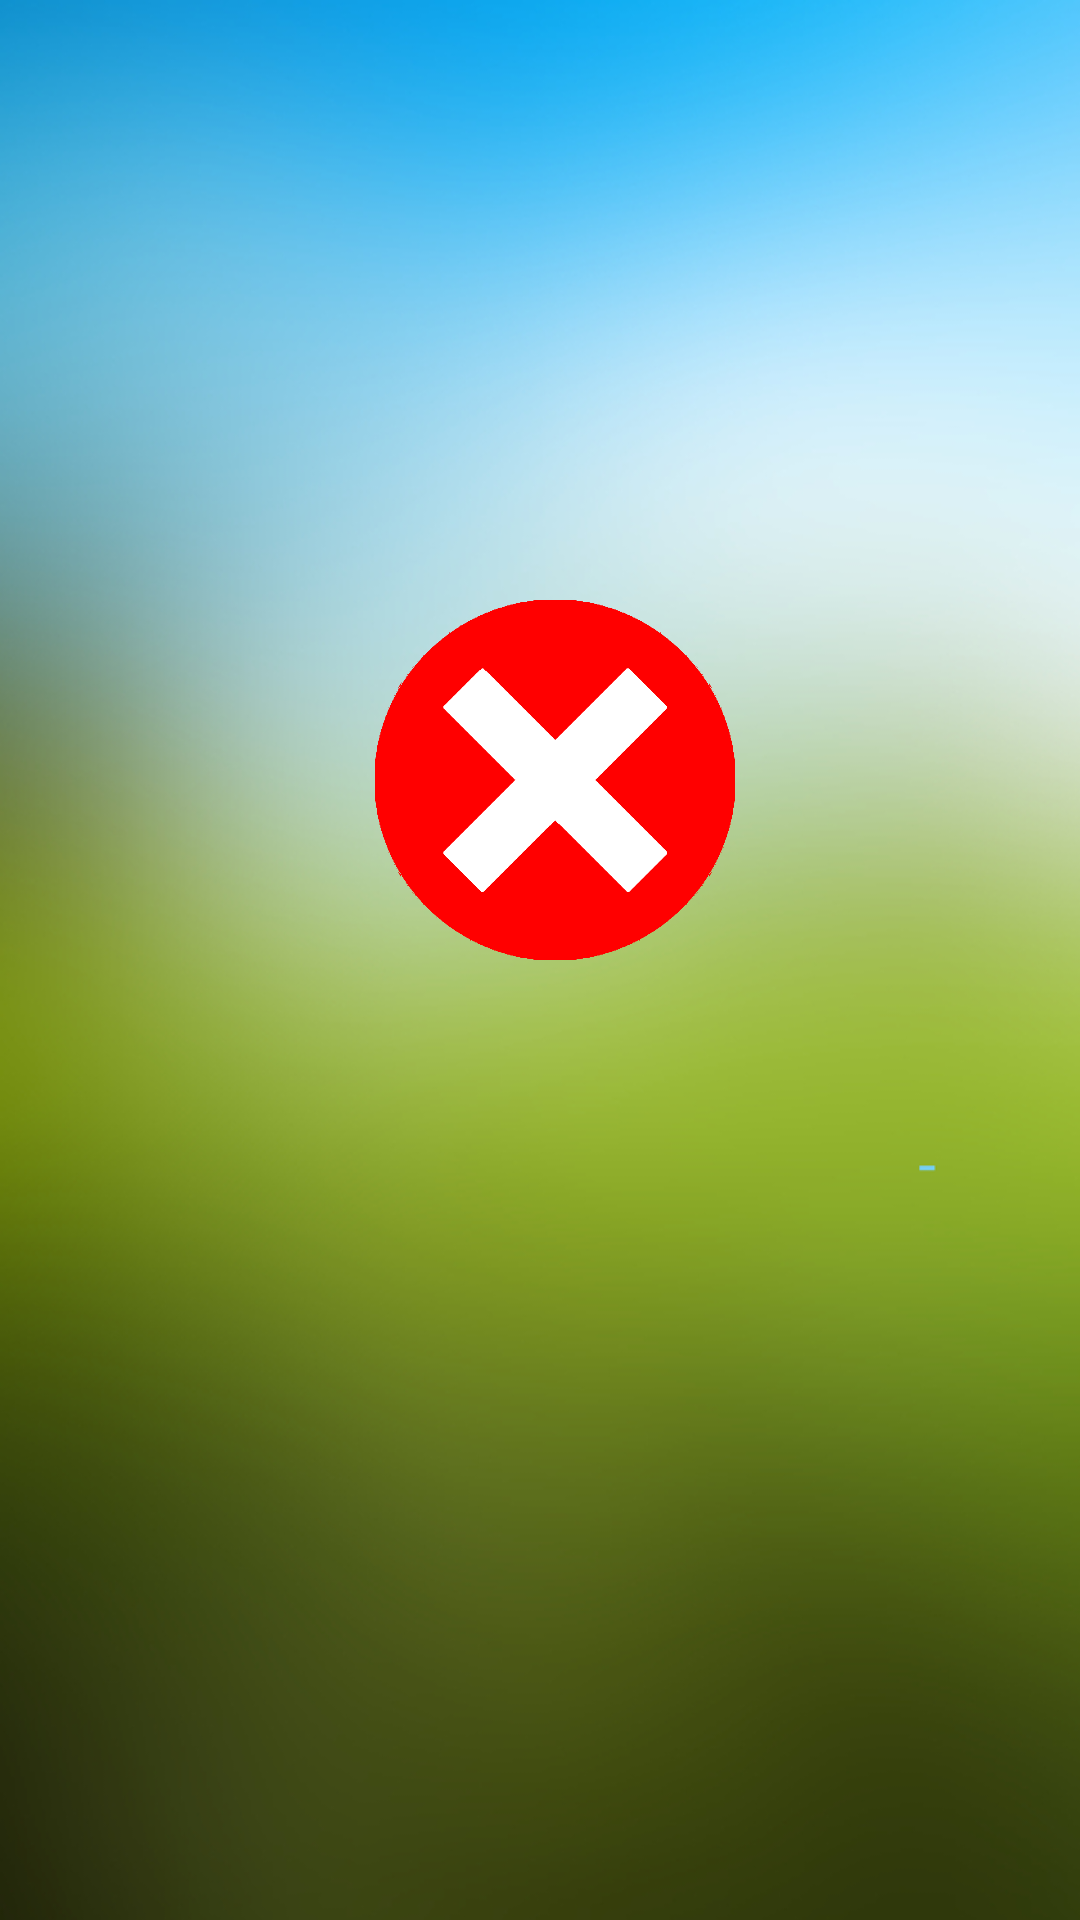

Where to tap for icons on this 1080 x 1920 app screen, as point (x, y):
fail: point (555, 780)
